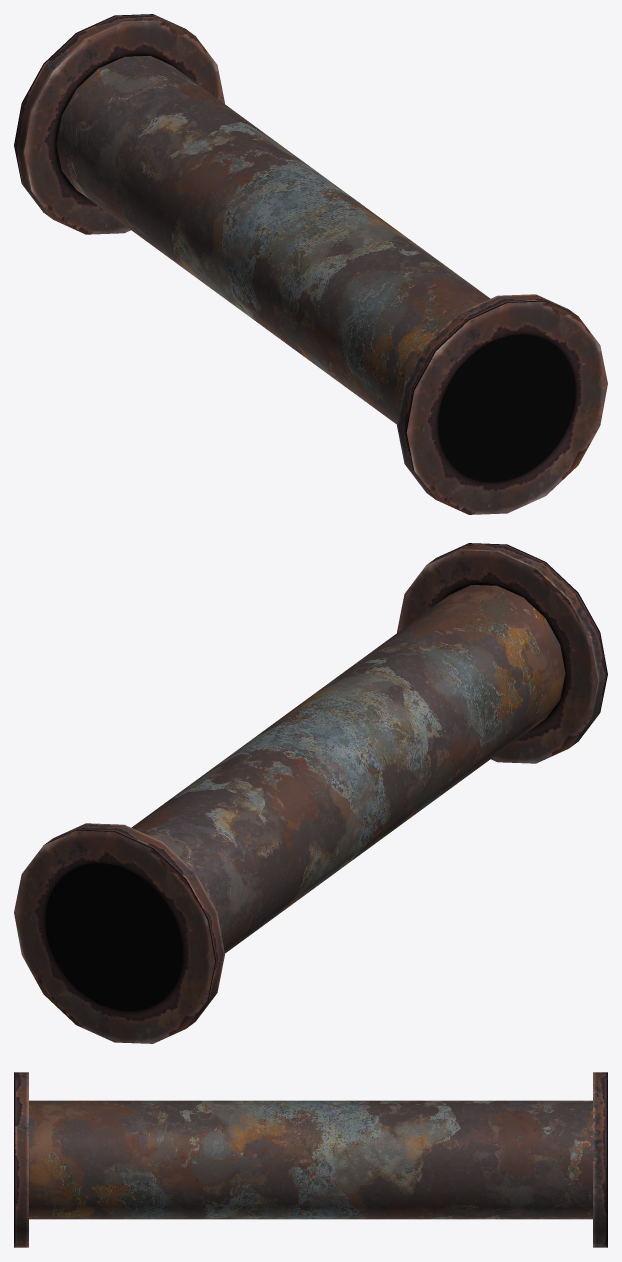
The model's file is pipe03_200cm.fbx.
3 renders of one model, top to bottom at view 1: azimuth 30°, elevation 25°; view 2: azimuth 150°, elevation 25°; view 3: azimuth 270°, elevation 25°, orthographic. The views are drawn at different scales.
Parts seen in each view (by area): view 1: pipe03_200cm; view 2: pipe03_200cm; view 3: pipe03_200cm.
Boxes of the visible parts, x1,y1,x2,y2 form: pipe03_200cm: [14, 14, 607, 514]; pipe03_200cm: [14, 543, 607, 1043]; pipe03_200cm: [14, 1072, 607, 1247].
Size of the model in its own units: 59.2 by 59.2 by 200.
